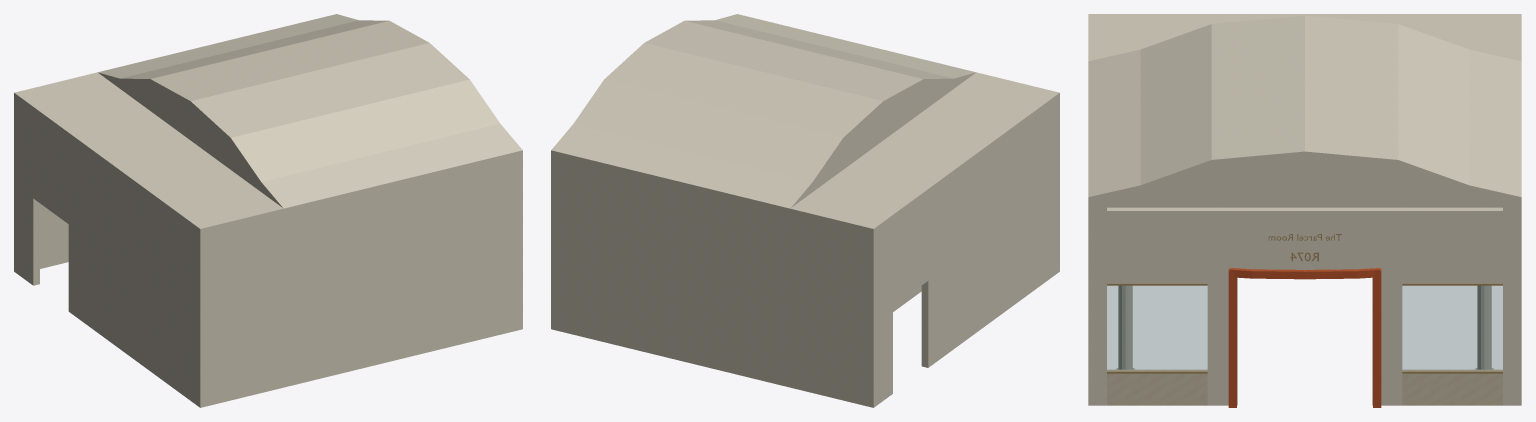
The model's file is SHOP_D09_S72_A340__shell.glb.
The picture shows the model from 3 angles, left to right: view 1: azimuth 30°, elevation 25°; view 2: azimuth 150°, elevation 25°; view 3: azimuth 270°, elevation 25°; orthographic projection. The views are drawn at different scales.
Parts seen in each view (by area): view 1: SHOP_D09_S72_A340__shell__ivory_enamel; view 2: SHOP_D09_S72_A340__shell__ivory_enamel; view 3: SHOP_D09_S72_A340__shell__ivory_enamel, SHOP_D09_S72_A340__shell__shop_glass, SHOP_D09_S72_A340__shell__warm_stone, SHOP_D09_S72_A340__shell__retail_terracotta_enamel, SHOP_D09_S72_A340__shell__champagne_metal.
Part boxes in pixels (left/top/right/bottom): SHOP_D09_S72_A340__shell__ivory_enamel: left=14, top=14, right=522, bottom=407; SHOP_D09_S72_A340__shell__ivory_enamel: left=551, top=14, right=1059, bottom=407; SHOP_D09_S72_A340__shell__ivory_enamel: left=1088, top=14, right=1521, bottom=405; SHOP_D09_S72_A340__shell__shop_glass: left=1107, top=286, right=1502, bottom=370; SHOP_D09_S72_A340__shell__warm_stone: left=1107, top=368, right=1502, bottom=405; SHOP_D09_S72_A340__shell__retail_terracotta_enamel: left=1228, top=268, right=1381, bottom=407; SHOP_D09_S72_A340__shell__champagne_metal: left=1107, top=234, right=1502, bottom=373.
Bounding box in the file's own units: 11.86 × 7.5 × 11.6.
6 materials, 4 textured.
